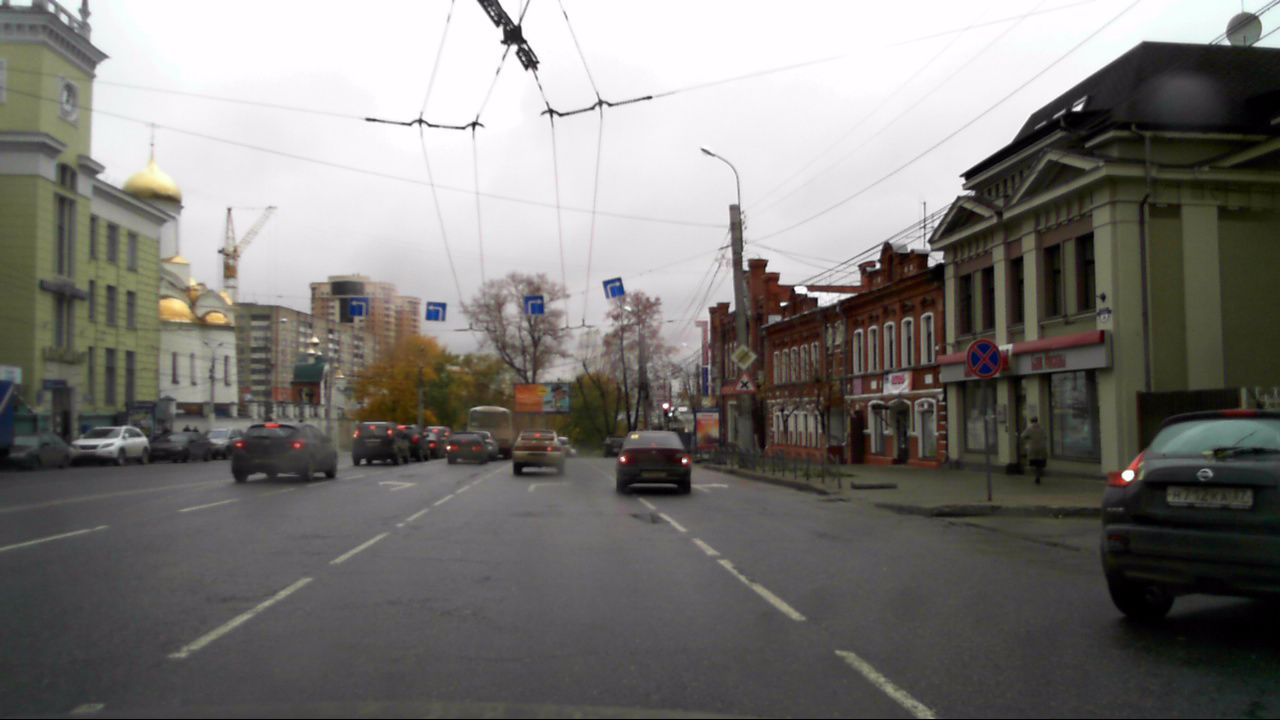main road: (730, 344, 757, 371)
